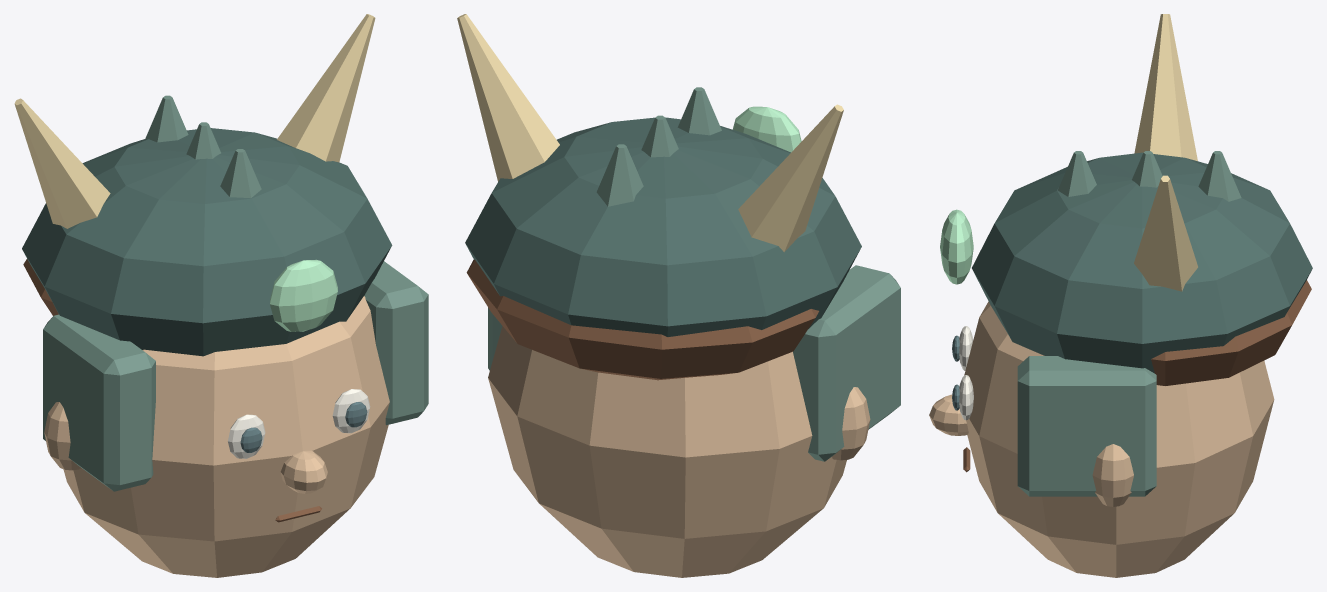
The model's file is Dragon_Peasant_Head.fbx.
3 renders of one model, left to right at view 1: azimuth 30°, elevation 25°; view 2: azimuth 150°, elevation 25°; view 3: azimuth 270°, elevation 25°, orthographic. The views are drawn at different scales.
Parts seen in each view (by area): view 1: Dragon_Peasant_Head; view 2: Dragon_Peasant_Head; view 3: Dragon_Peasant_Head.
Part boxes in pixels (x1,y1,x2,y2): Dragon_Peasant_Head: (14,14,428,577); Dragon_Peasant_Head: (457,14,900,577); Dragon_Peasant_Head: (929,14,1312,577).
Size of the model in its own units: 68.43 by 89.21 by 66.25.
